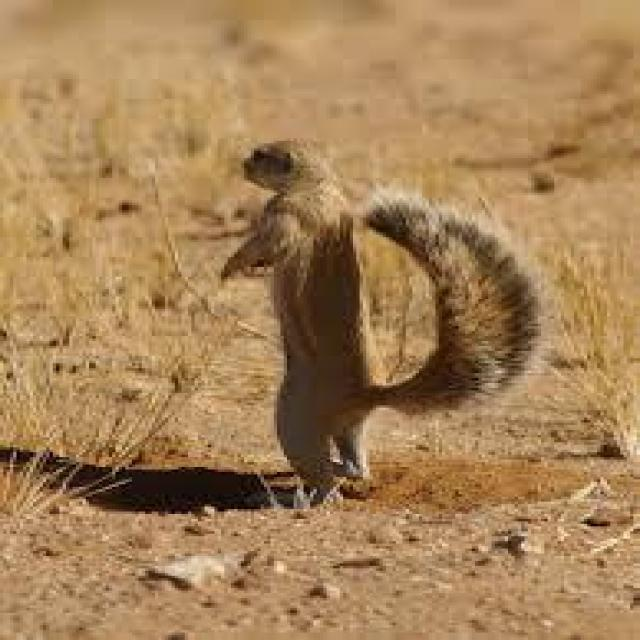license-plate: (222, 142, 528, 545)
